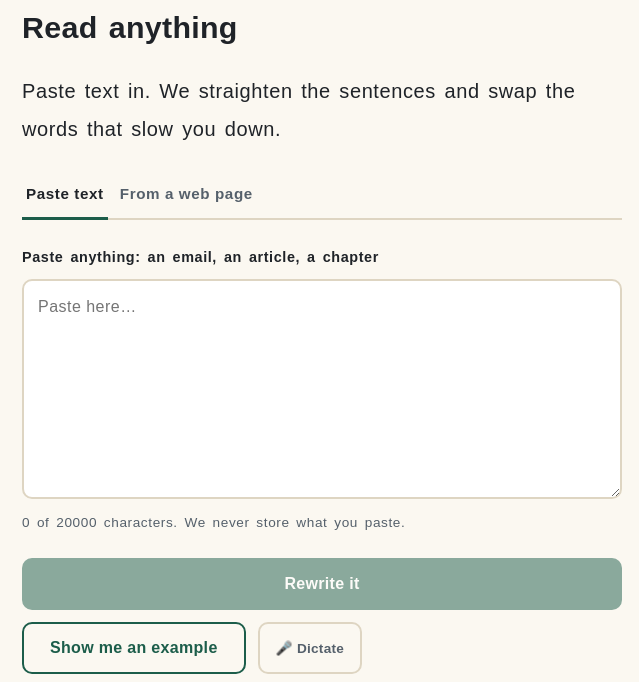
Read anything — import from a web page (v0.6) › imports a URL into the paste box on the "From a web page" tab
Click the tab "From a web page" at (186, 196), box [116,172,257,220]
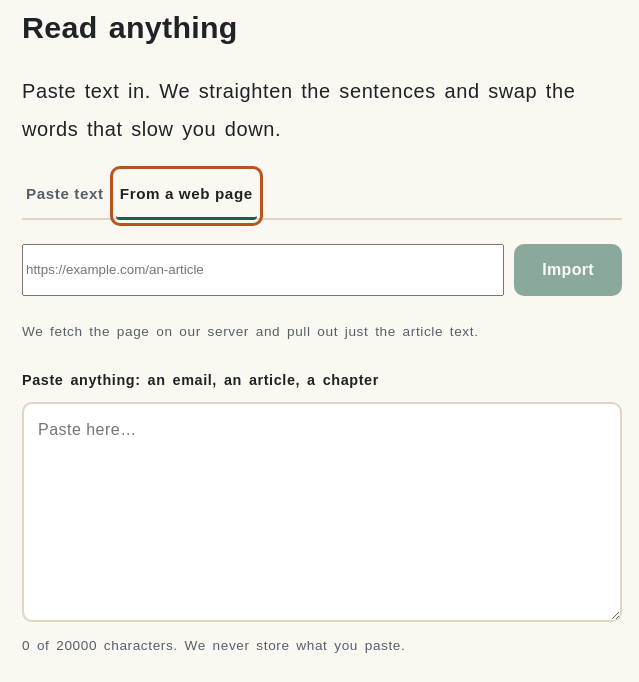
Type "https://example.com/article" into the field with placeholder "https://example.com/an-article" at (263, 270), box [22,244,504,296]
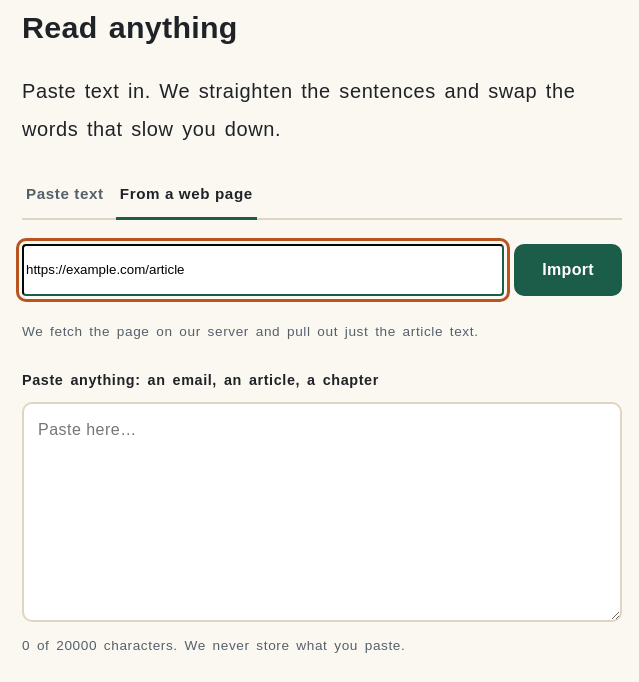
Click the button "Import" at (568, 270), box [514,244,622,296]
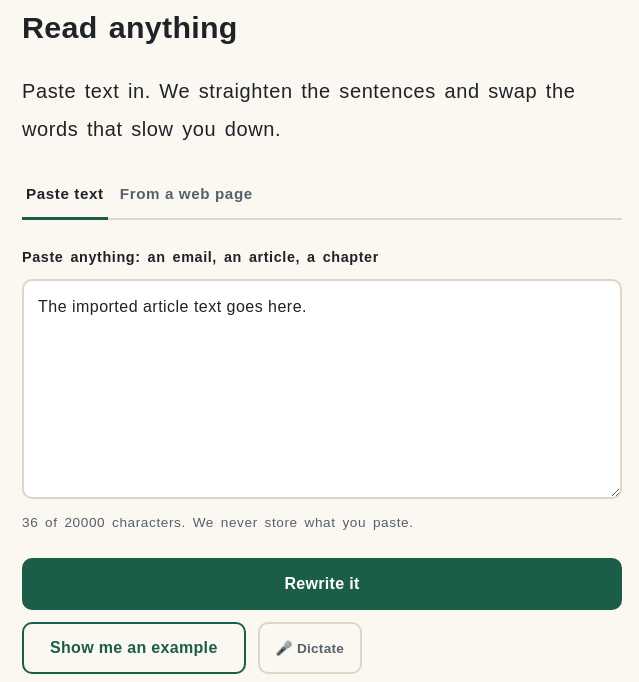
Check: the text box labelled "Paste anything: an email, an article, a chapter" holds "The imported article text goes here.", box [22,279,622,499]
